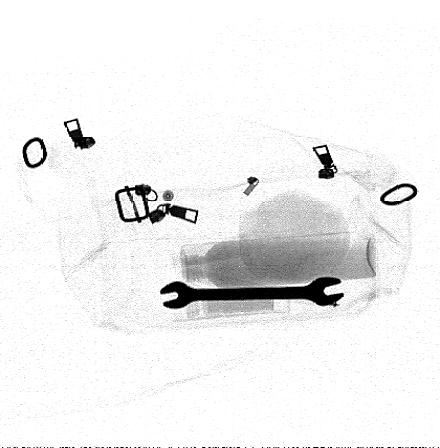Wrench: (156, 275, 350, 309)
